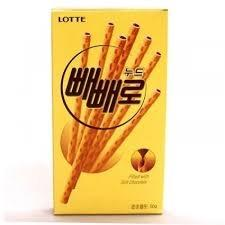snack: (53, 8, 168, 215)
